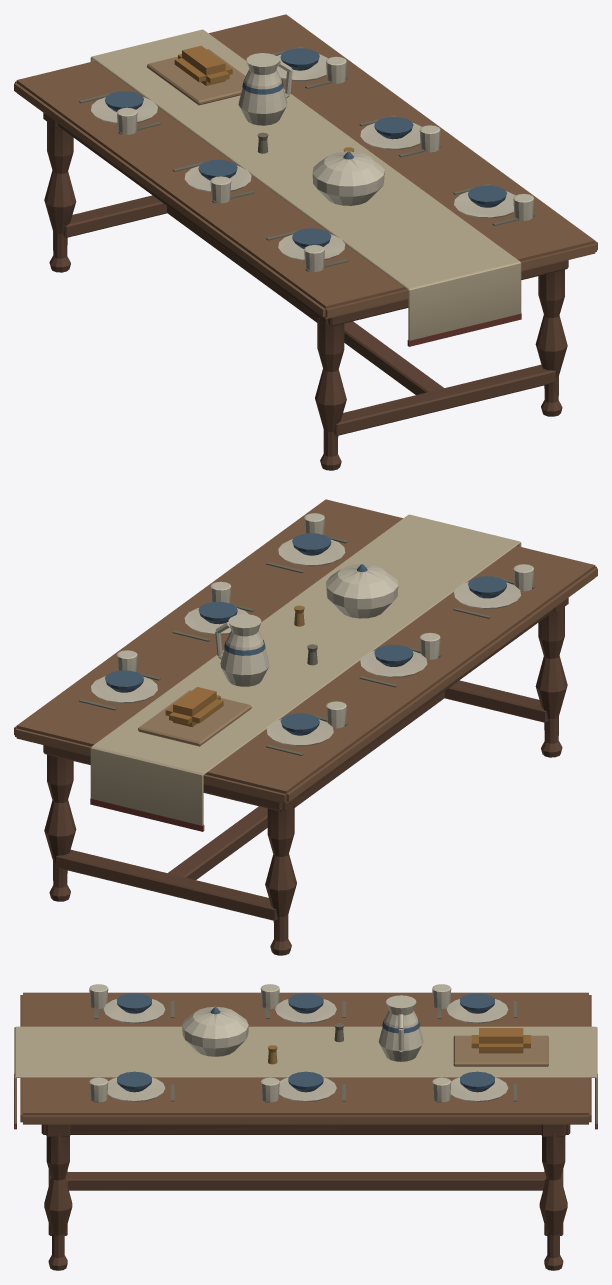
The model's file is hargrove_dining_table.glb.
3 renders of one model, top to bottom at view 1: azimuth 30°, elevation 25°; view 2: azimuth 150°, elevation 25°; view 3: azimuth 270°, elevation 25°, orthographic. The views are drawn at different scales.
Visible parts, largest first — view 1: hargrove_dining_table; view 2: hargrove_dining_table; view 3: hargrove_dining_table.
Part boxes in pixels (box(x1,y1,x2,y2)): hargrove_dining_table: box(14, 14, 597, 470); hargrove_dining_table: box(14, 499, 597, 955); hargrove_dining_table: box(14, 984, 597, 1270).
Size of the model in its own units: 1.22 by 1.02 by 2.45.
